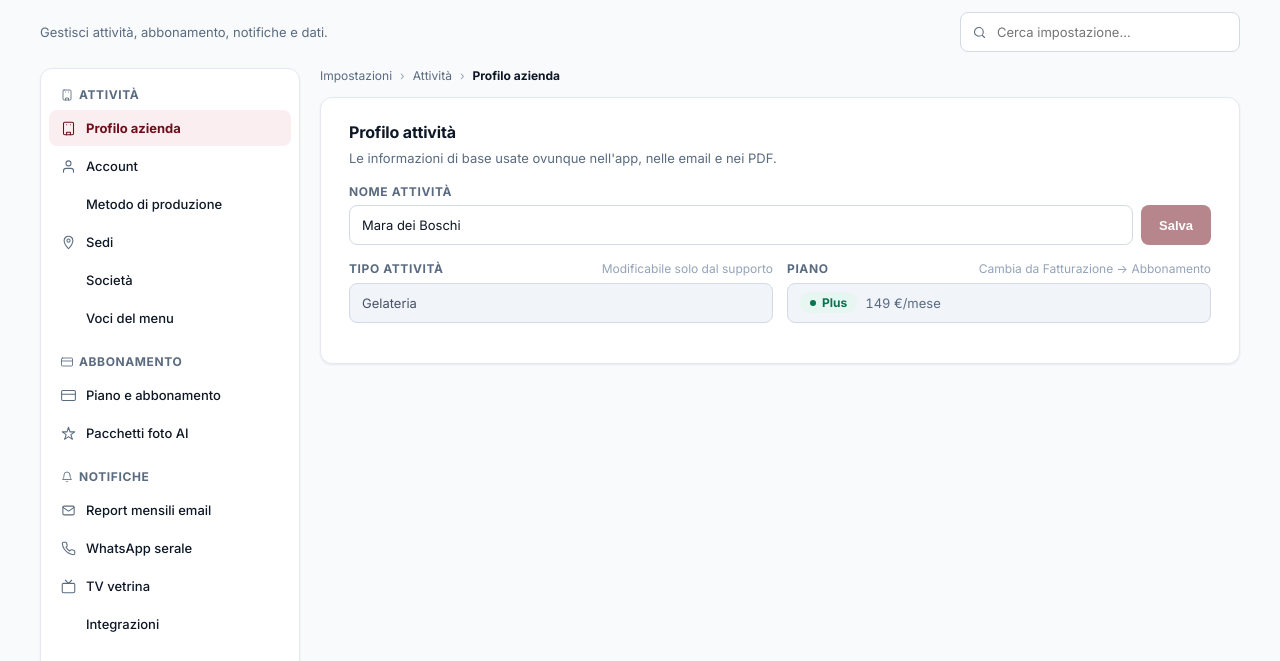
Test: Impostazioni · sedi › il riassunto della voce conta solo le sedi attive, non le archiviate
The width and height of the screenshot is (1280, 661).
Type "sedi" into the field with placeholder "Cerca impostazione…" at (1100, 32), box [960,12,1240,52]
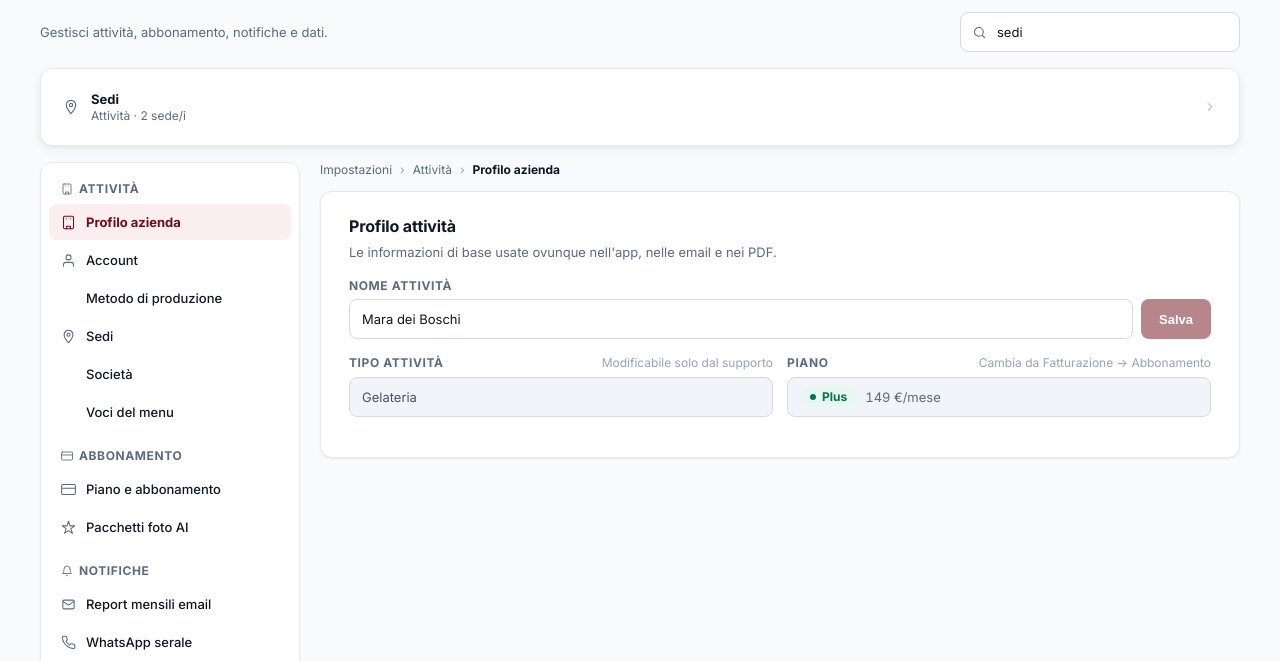
Expected: the text "2 sede/i" is shown, [140,108,186,123]
